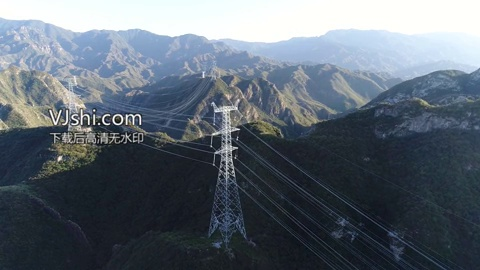tower_body: (200, 97, 261, 257)
tower_foot: (203, 213, 256, 254)
tower_head: (206, 99, 243, 113)
